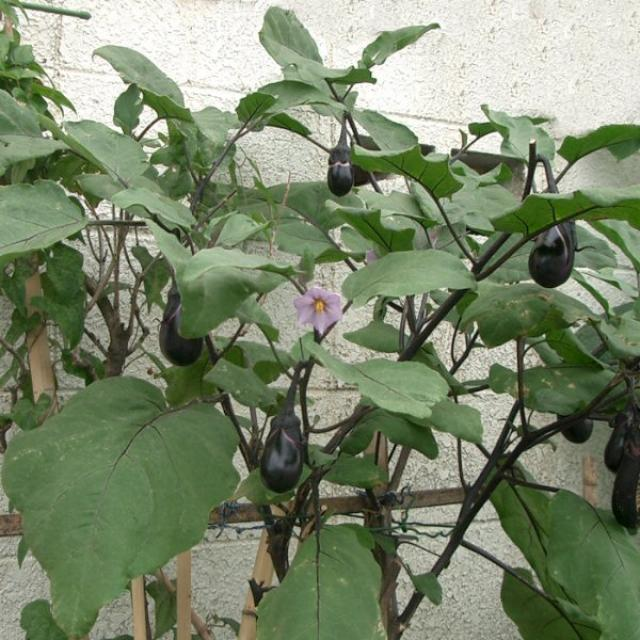Eggplant: (260, 410, 306, 494), (524, 219, 576, 288), (324, 140, 357, 198)
